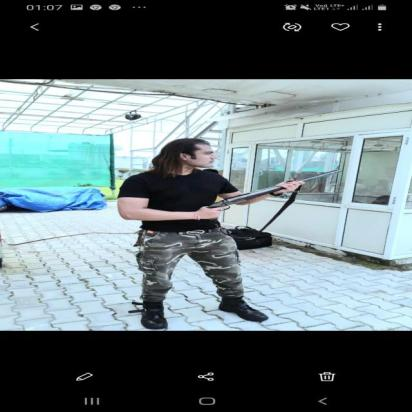Gun: (204, 168, 344, 222)
